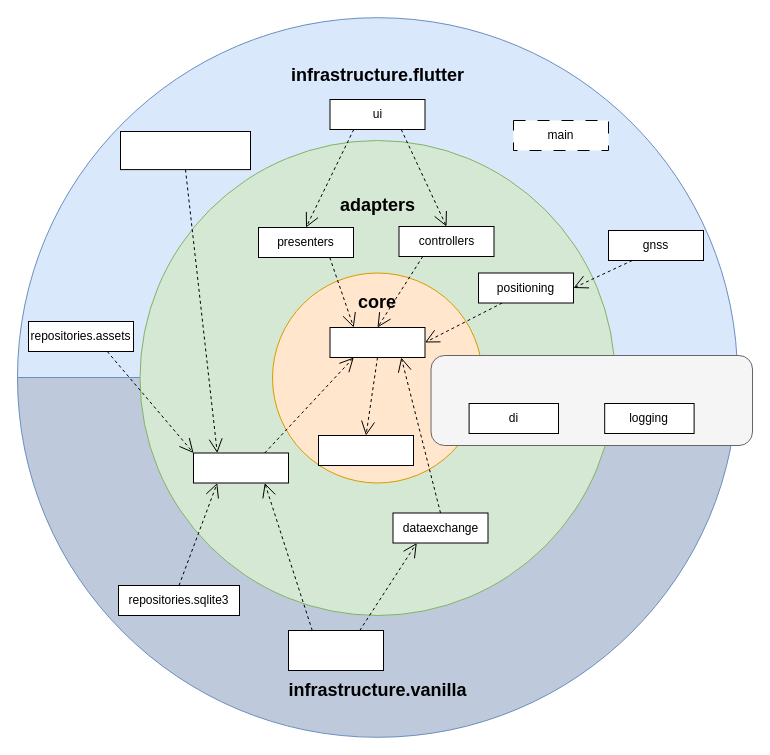
This 770x755 diagram has some shape labels left out. Here are the shapes that lost their labels. From the top down, the box of each, then its label:
(120, 130, 250, 170): repositories. shared_preferences
(329, 326, 425, 358): usecases
(430, 354, 752, 446): crosscutting
(192, 452, 288, 483): storage
(318, 434, 414, 466): entities
(288, 630, 384, 670): dart:io (file system)
